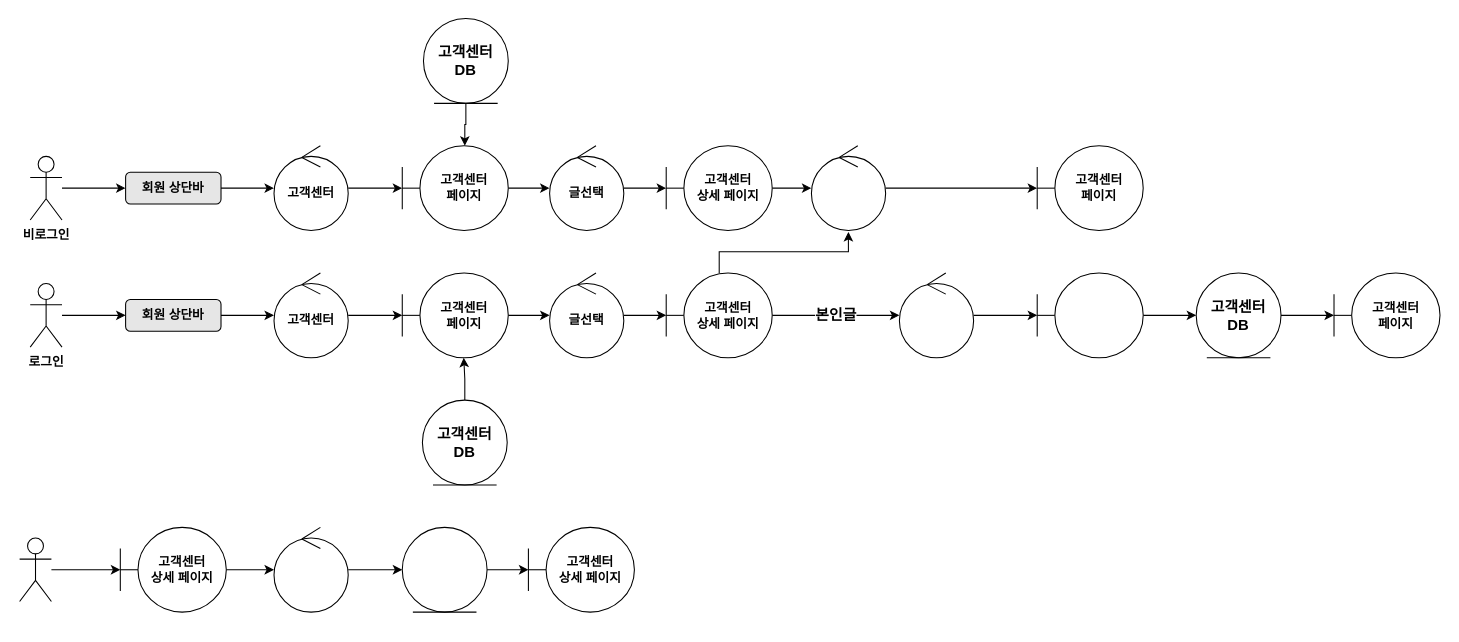
The diagram is 1459 pixels wide and 642 high, and some of its shapes have lost their labels. The shapes that lost their labels are listed below. From the top down, each one's centre as x and y in pixels, then its label:
[848,188]: 목록으로
[936,315]: 수정하기
[1089,315]: 글 수정 페이지
[35,569]: 관리자
[310,569]: 답변하기
[444,569]: 고객센터 답변 DB
